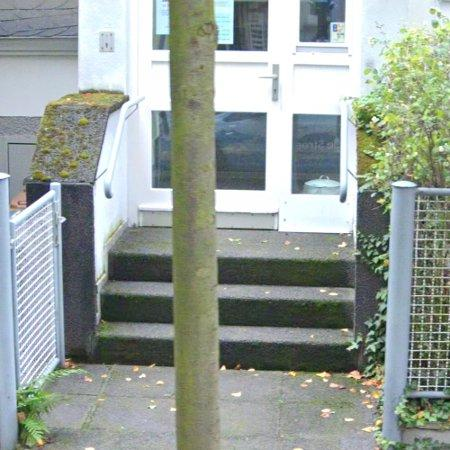stairs: (219, 231, 356, 372), (97, 228, 172, 366)
